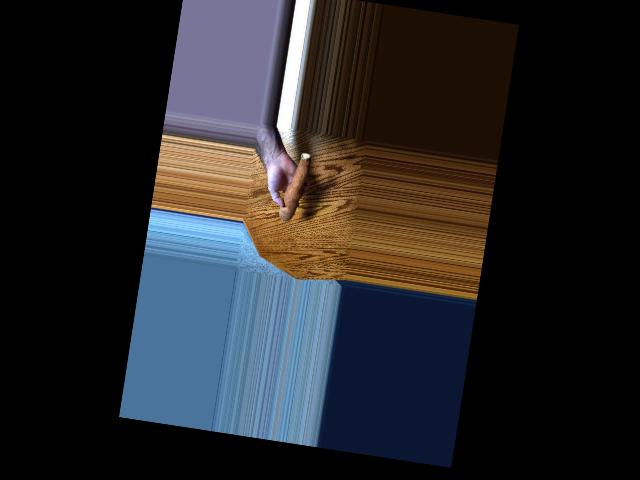sweet_potato: (279, 153, 311, 228)
